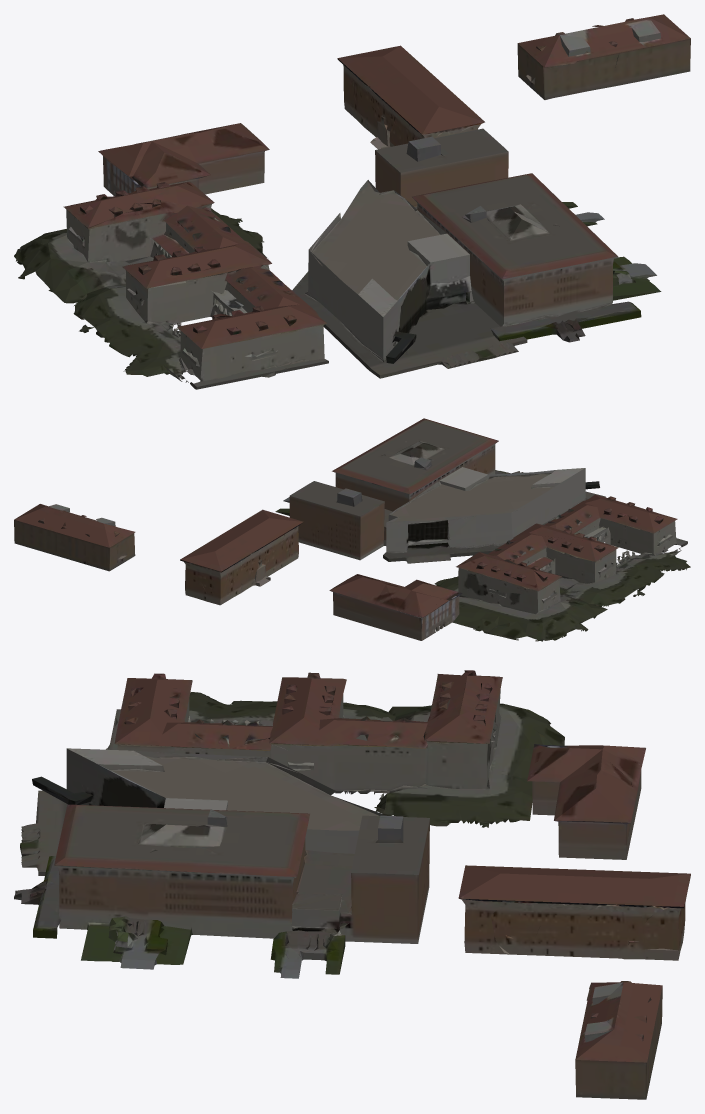
The model's file is t_0_0.coat.glb.
3 views of the same model, one above another, from view 1: azimuth 30°, elevation 25°; view 2: azimuth 150°, elevation 25°; view 3: azimuth 270°, elevation 25° (orthographic). The views are drawn at different scales.
Parts seen in each view (by area): view 1: far; view 2: far; view 3: far.
Part boxes in pixels (x1,y1,x2,y2): far: [14, 14, 690, 389]; far: [14, 418, 690, 641]; far: [14, 670, 690, 1099].
Bounding box in the file's own units: 291 × 28.05 × 204.
1 material, 1 textured.
